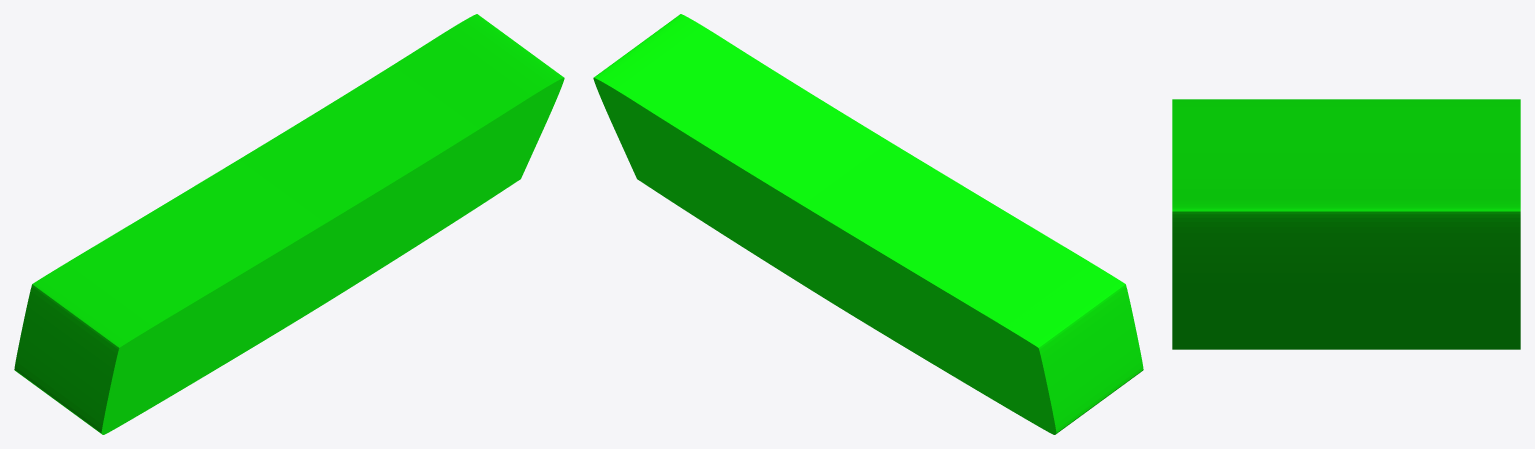
File: fathah.obj
The picture shows the model from 3 angles, left to right: view 1: azimuth 30°, elevation 25°; view 2: azimuth 150°, elevation 25°; view 3: azimuth 270°, elevation 25°; orthographic projection. The views are drawn at different scales.
Visible parts, largest first — view 1: path23; view 2: path23; view 3: path23.
Part boxes in pixels (x1,y1,x2,y2): path23: (14, 14, 564, 434); path23: (593, 14, 1143, 434); path23: (1172, 99, 1520, 349).
Bounding box in the file's own units: 0.2032 × 0.1027 × 0.0662.
